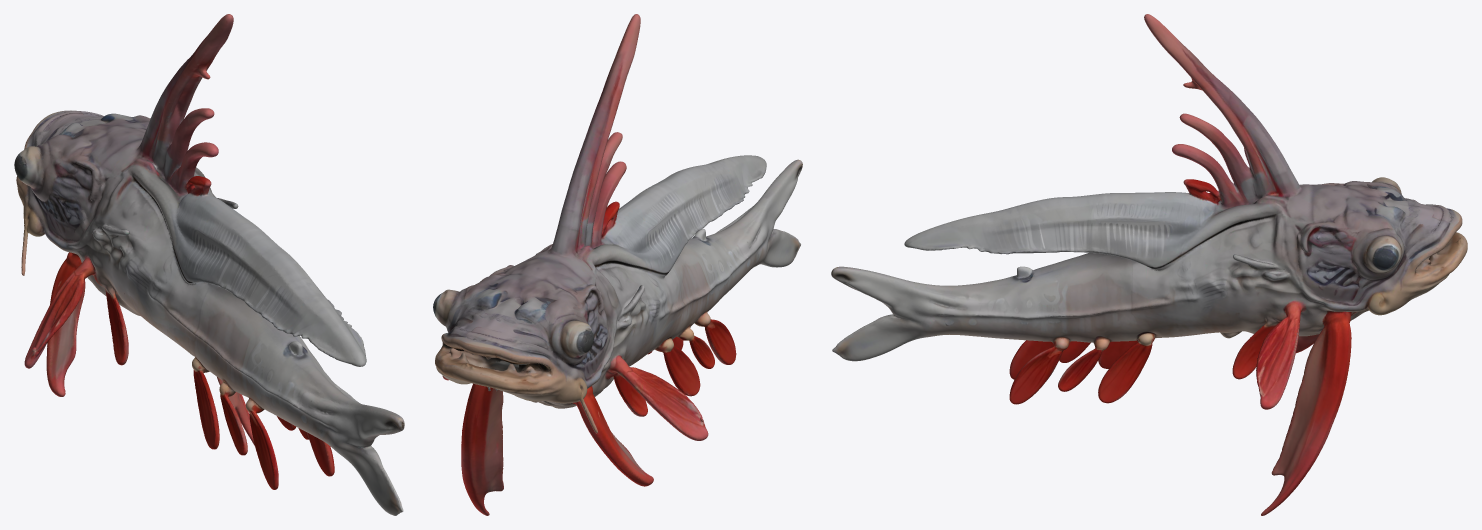
File: oarY_5.glb
3 renders of one model, left to right at view 1: azimuth 30°, elevation 25°; view 2: azimuth 150°, elevation 25°; view 3: azimuth 270°, elevation 25°, orthographic. The views are drawn at different scales.
Visible parts, largest first — view 1: tripo_node_e4ffbaef-3894-4ad7-8bee-55a1de4f0a80; view 2: tripo_node_e4ffbaef-3894-4ad7-8bee-55a1de4f0a80; view 3: tripo_node_e4ffbaef-3894-4ad7-8bee-55a1de4f0a80.
Part boxes in pixels (left/top/right/bottom): tripo_node_e4ffbaef-3894-4ad7-8bee-55a1de4f0a80: left=14, top=14, right=404, bottom=515; tripo_node_e4ffbaef-3894-4ad7-8bee-55a1de4f0a80: left=433, top=14, right=802, bottom=515; tripo_node_e4ffbaef-3894-4ad7-8bee-55a1de4f0a80: left=831, top=14, right=1467, bottom=515.
Bounding box in the file's own units: 0.4594 × 0.7974 × 1.
Materials: 1 (1 with a texture image).
